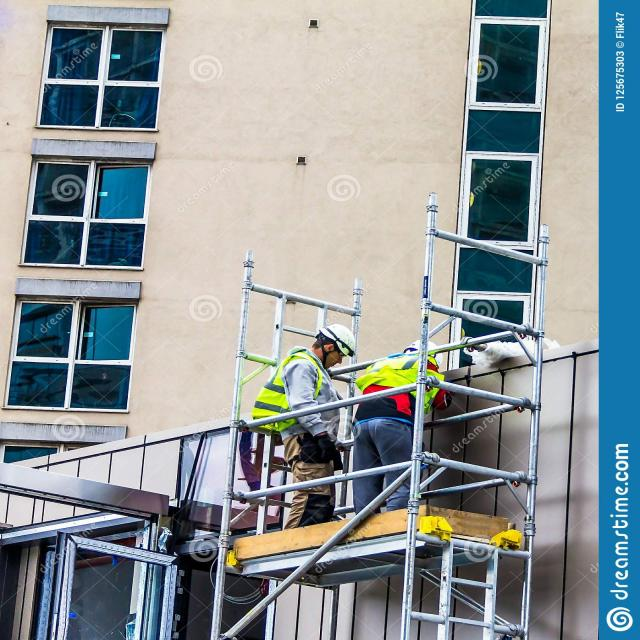Reflective-Jacket: (250, 350, 325, 433)
Safety-Helmet: (316, 319, 358, 357)
